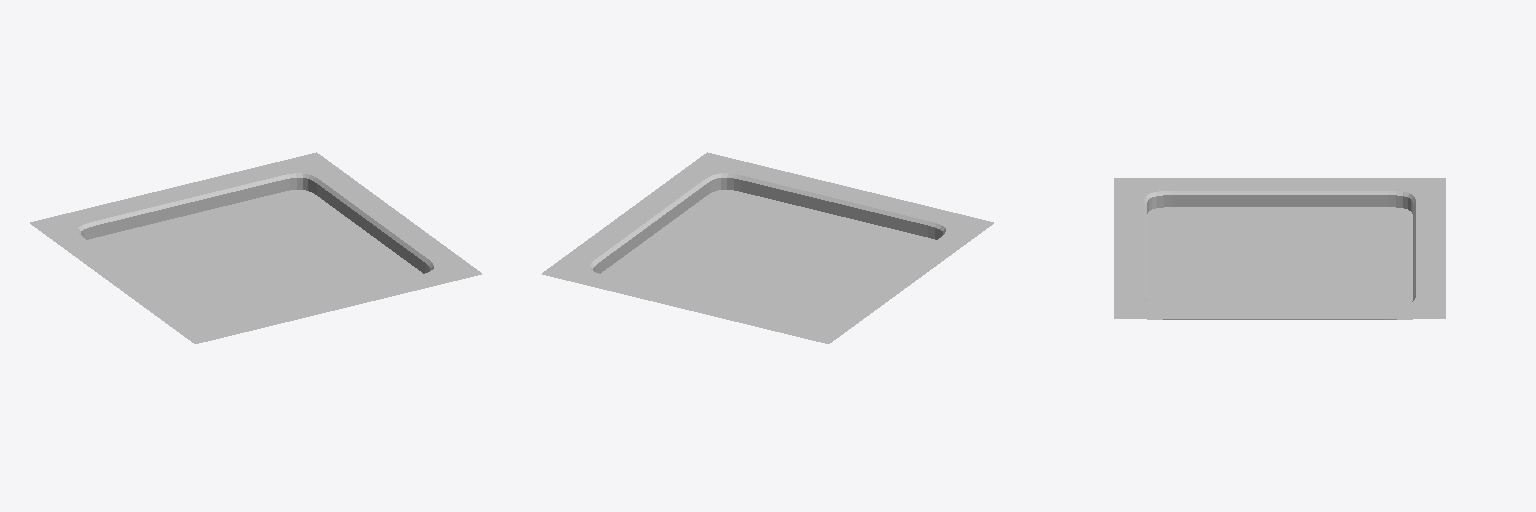
Rendered from world_tile_10_floor_reconfigurable.obj.
3 views of the same model, side by side, from view 1: azimuth 30°, elevation 25°; view 2: azimuth 150°, elevation 25°; view 3: azimuth 270°, elevation 25° (orthographic).
Parts seen in each view (by area): view 1: Energy_Barrier, Floor, Glow; view 2: Energy_Barrier, Floor, Glow; view 3: Energy_Barrier, Floor, Glow.
Part boxes in pixels (bbox=[...]): Energy_Barrier: bbox=[88, 190, 422, 323]; Floor: bbox=[30, 152, 481, 343]; Glow: bbox=[81, 178, 430, 273]; Energy_Barrier: bbox=[601, 190, 935, 323]; Floor: bbox=[542, 152, 993, 343]; Glow: bbox=[593, 178, 942, 273]; Energy_Barrier: bbox=[1147, 207, 1412, 319]; Floor: bbox=[1114, 178, 1445, 318]; Glow: bbox=[1147, 195, 1412, 319].
Bounding box in the file's own units: 1000 × 50 × 1000.